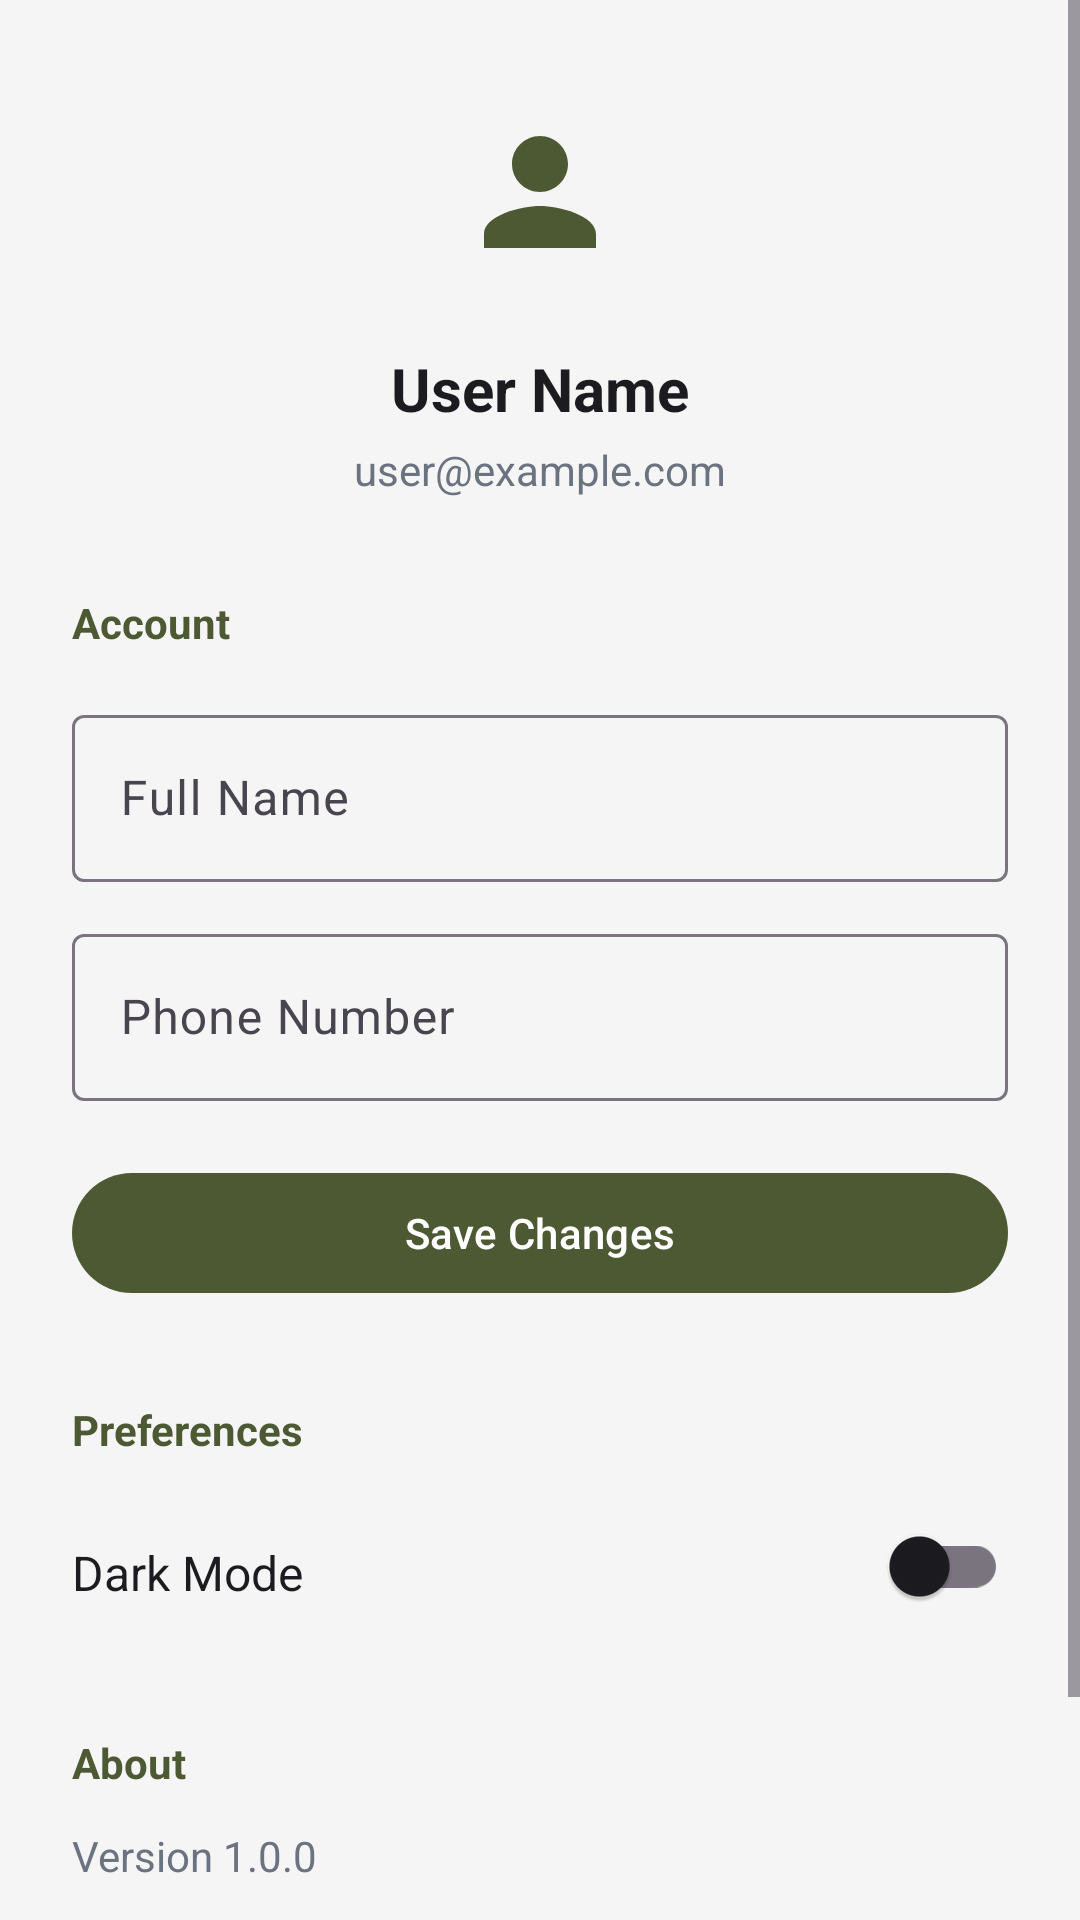

Point at icon controls on the screen. Image size 1080px x 1920px, points as (x,y).
Profile: (540,192)
